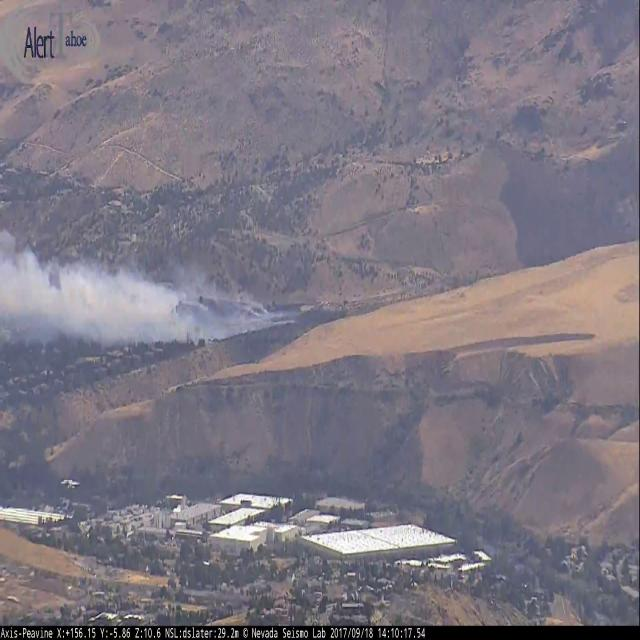smoke: (0, 228, 294, 344)
